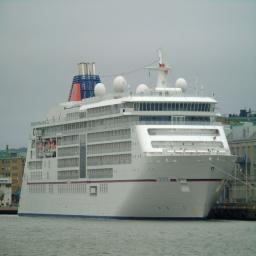cruises: (16, 48, 241, 225)
